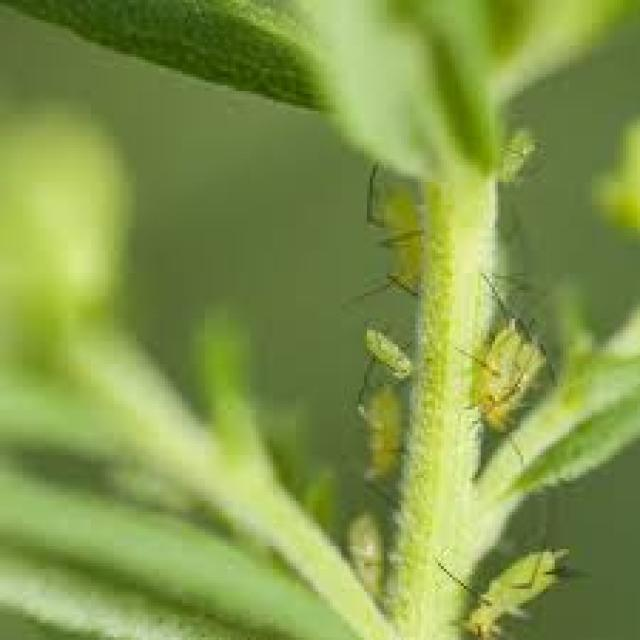Aphid: (462, 285, 550, 439), (459, 539, 584, 640), (348, 390, 421, 476), (341, 498, 382, 606), (486, 127, 544, 202), (354, 324, 428, 380)
